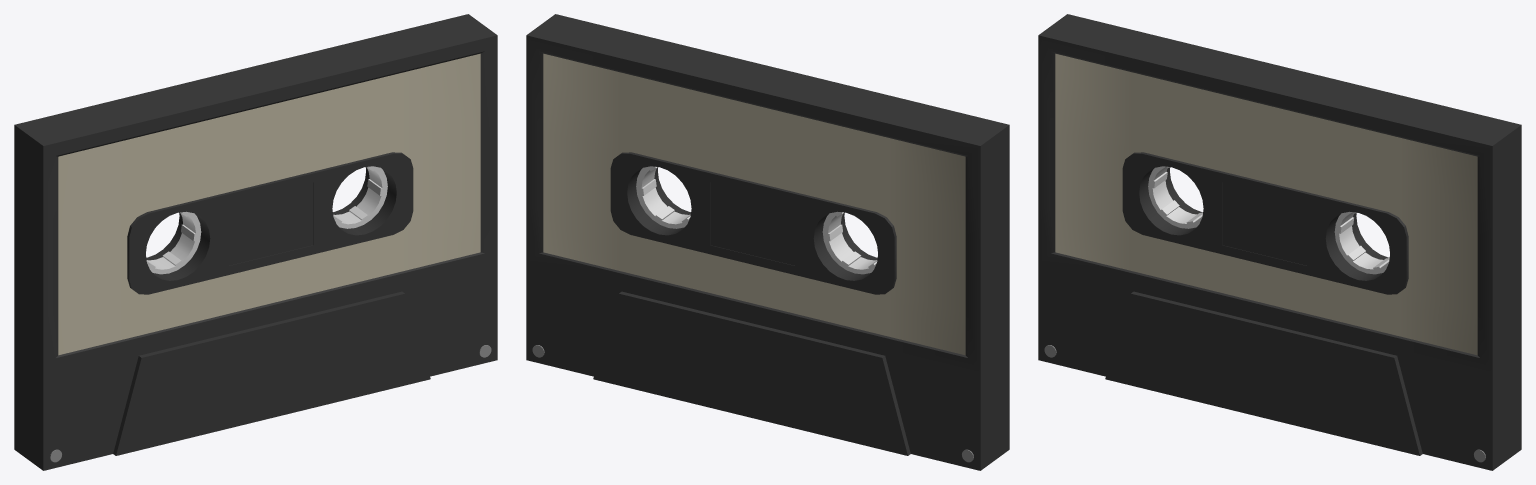
Rendered from cassetteTape.fbx.
3 renders of one model, left to right at view 1: azimuth 30°, elevation 25°; view 2: azimuth 150°, elevation 25°; view 3: azimuth 330°, elevation 25°, orthographic.
Parts seen in each view (by area): view 1: Cassette Tape; view 2: Cassette Tape; view 3: Cassette Tape.
Part boxes in pixels (x1,y1,x2,y2): Cassette Tape: [14, 14, 497, 470]; Cassette Tape: [526, 14, 1009, 470]; Cassette Tape: [1038, 14, 1521, 470].
Size of the model in its own units: 138 by 94.16 by 18.3.
